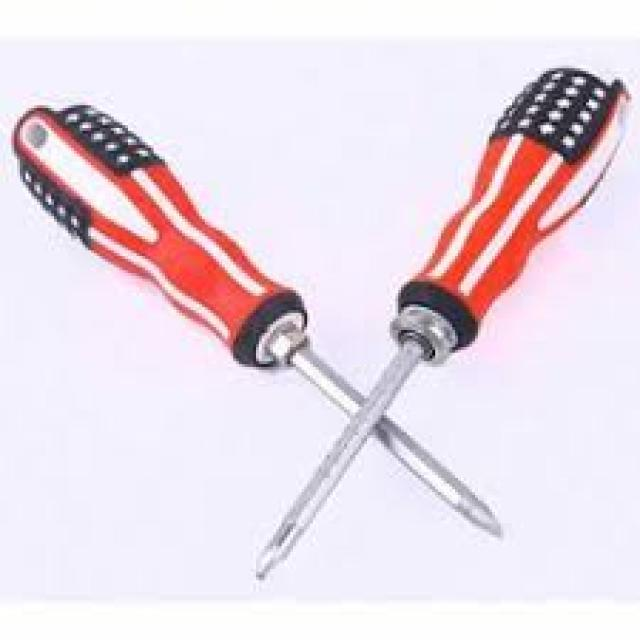screwdriver: (7, 92, 511, 542), (252, 61, 630, 582)
